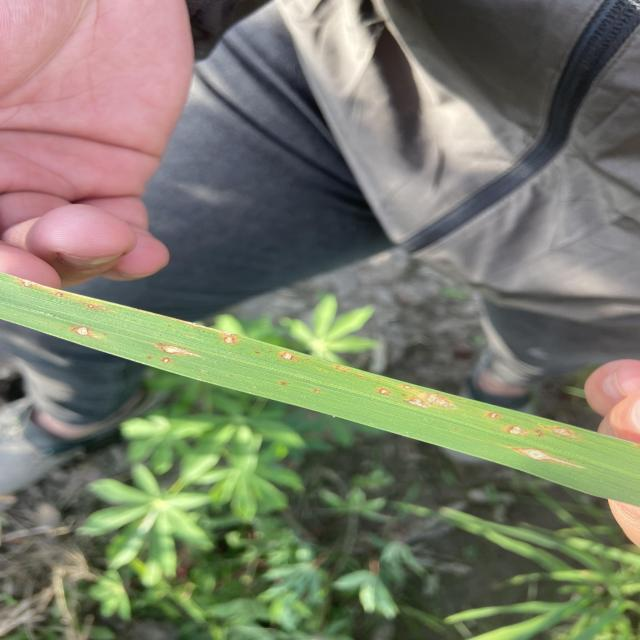Dao on: (514, 448, 583, 468), (407, 392, 456, 408), (154, 343, 199, 357), (550, 426, 579, 439), (72, 326, 93, 336), (222, 332, 238, 344), (279, 351, 297, 360), (508, 426, 525, 435), (85, 303, 106, 310), (487, 412, 501, 419), (378, 388, 390, 394), (55, 292, 64, 297), (404, 385, 411, 389)
